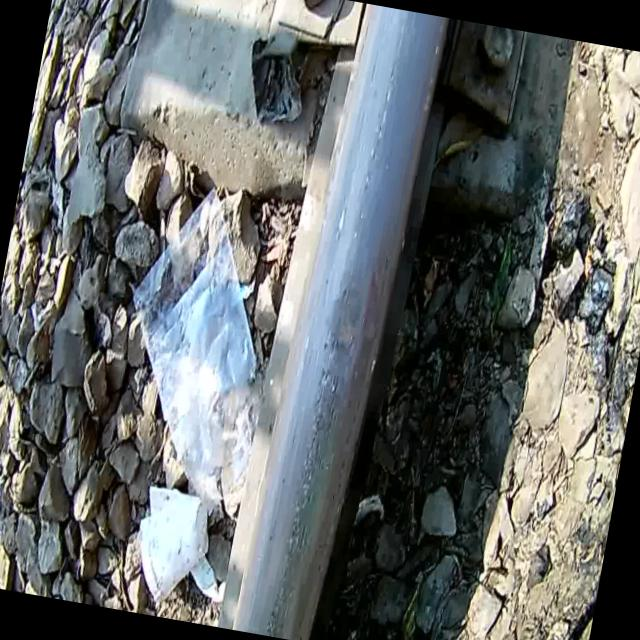Squats: (256, 234, 422, 418)
